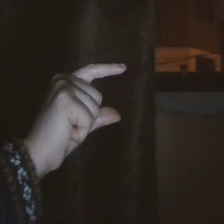G: (27, 58, 131, 179)
